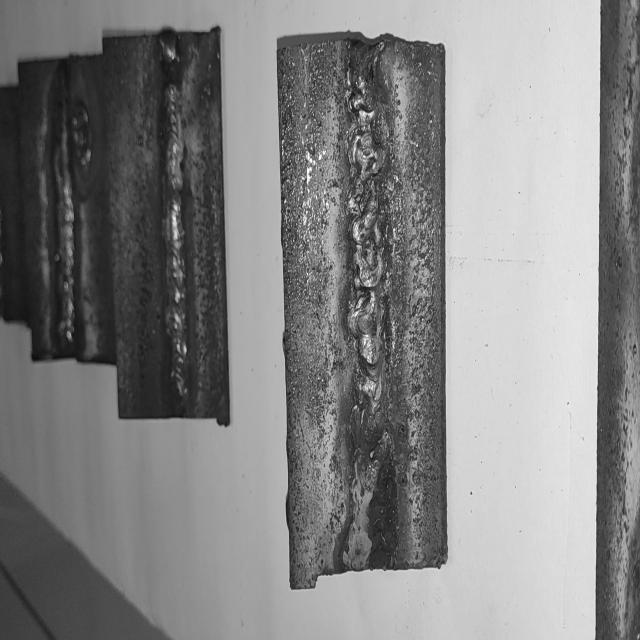Defect: (340, 48, 391, 440), (52, 92, 95, 177), (153, 43, 192, 98)
Welding Line: (346, 62, 384, 446), (160, 40, 190, 415), (57, 72, 72, 346)
Workpiece: (274, 36, 450, 584), (102, 29, 234, 422), (30, 57, 111, 360)
